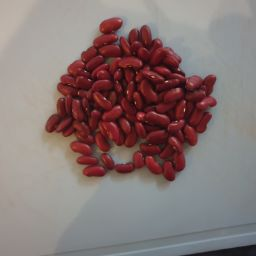Pinto Beans (kidney beans): (17, 11, 231, 195), (121, 143, 189, 185), (64, 139, 119, 185), (176, 65, 223, 117), (140, 23, 185, 72), (125, 93, 174, 136), (52, 62, 97, 107), (88, 17, 130, 53), (39, 109, 81, 144), (119, 58, 157, 93)
